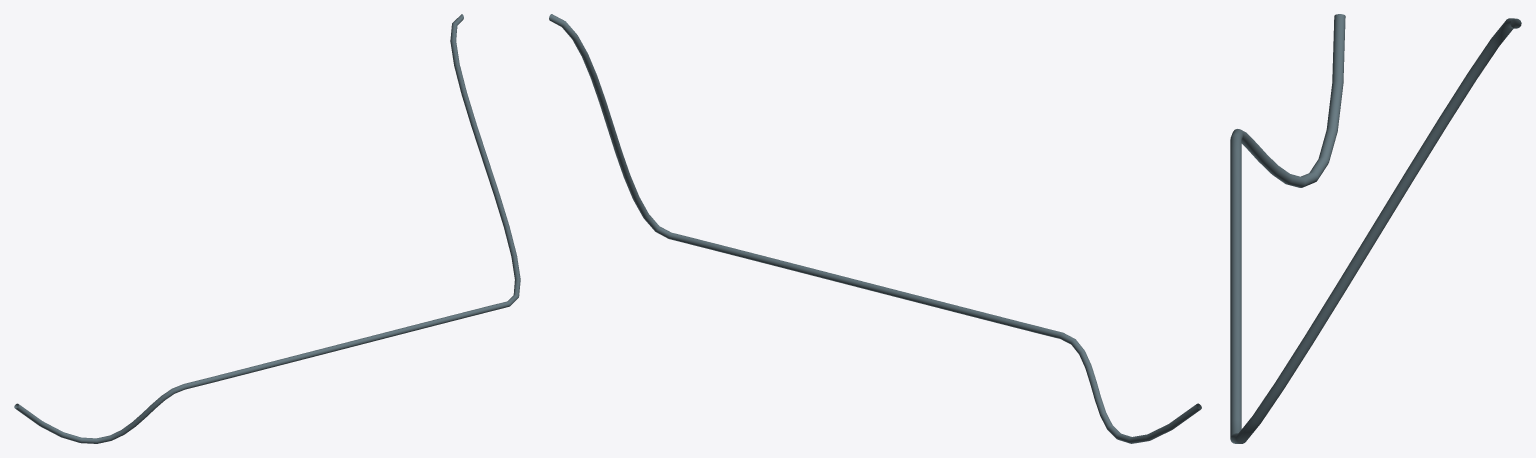
The model's file is ElecWire05.fbx.
3 renders of one model, left to right at view 1: azimuth 30°, elevation 25°; view 2: azimuth 150°, elevation 25°; view 3: azimuth 270°, elevation 25°, orthographic. The views are drawn at different scales.
Parts seen in each view (by area): view 1: ElecWire05_LOD0; view 2: ElecWire05_LOD0; view 3: ElecWire05_LOD0.
Part boxes in pixels (bbox=[...]): ElecWire05_LOD0: bbox=[14, 14, 520, 443]; ElecWire05_LOD0: bbox=[549, 14, 1201, 443]; ElecWire05_LOD0: bbox=[1230, 14, 1521, 443].
Size of what is drawn, in the model's own units: 234 by 131 by 61.91.
